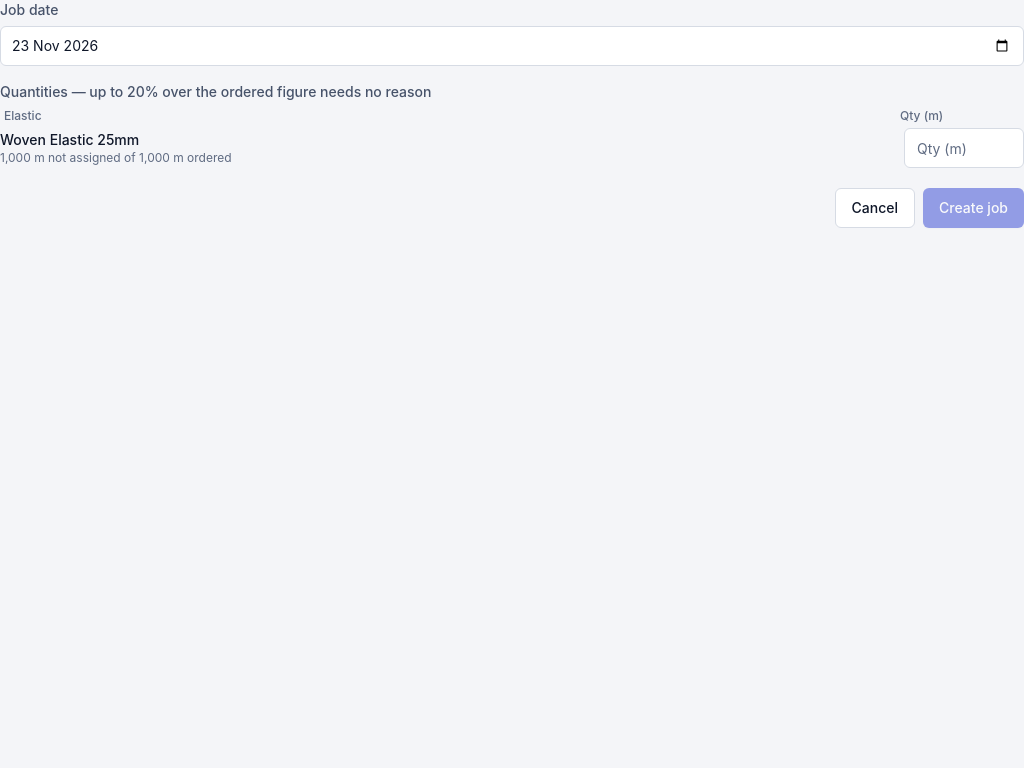
Test case: when the excess yarn is short › asks for a reason of at least 8 characters before trying again
The width and height of the screenshot is (1024, 768).
In the number field labelled "Qty (m)": (964, 148) x1=904 y1=128 x2=1023 y2=168, type "1100"
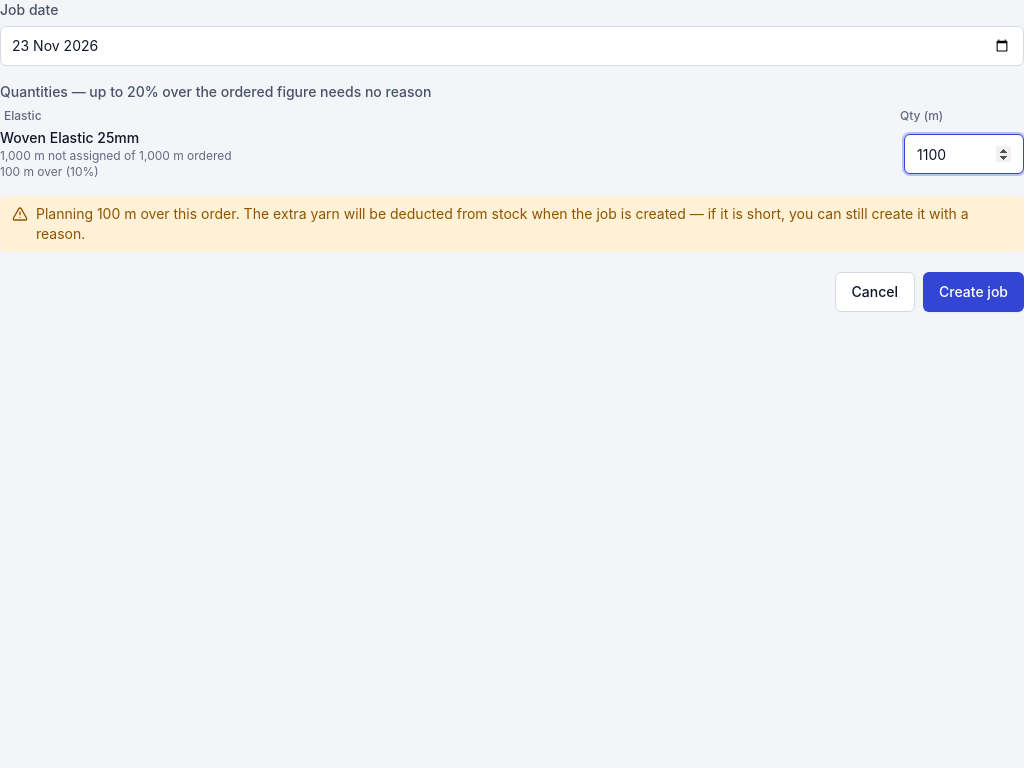
Click the button "Create job": (974, 292) x1=923 y1=272 x2=1023 y2=312
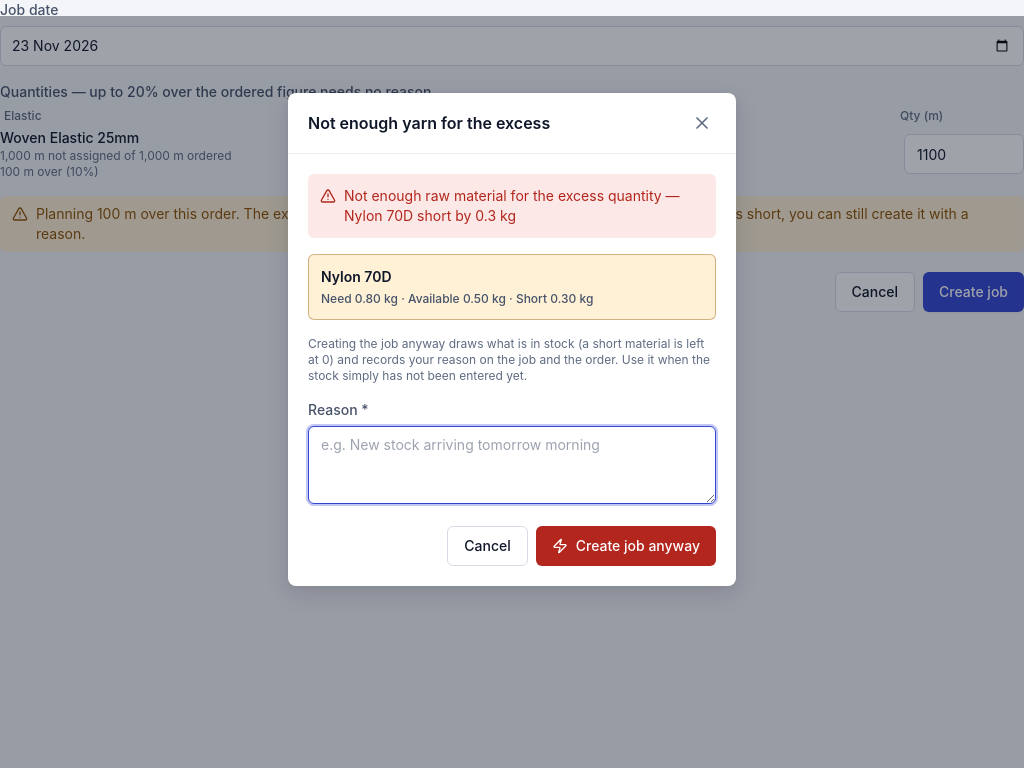
In the text box: (512, 465) x1=308 y1=426 x2=716 y2=504, type "short"
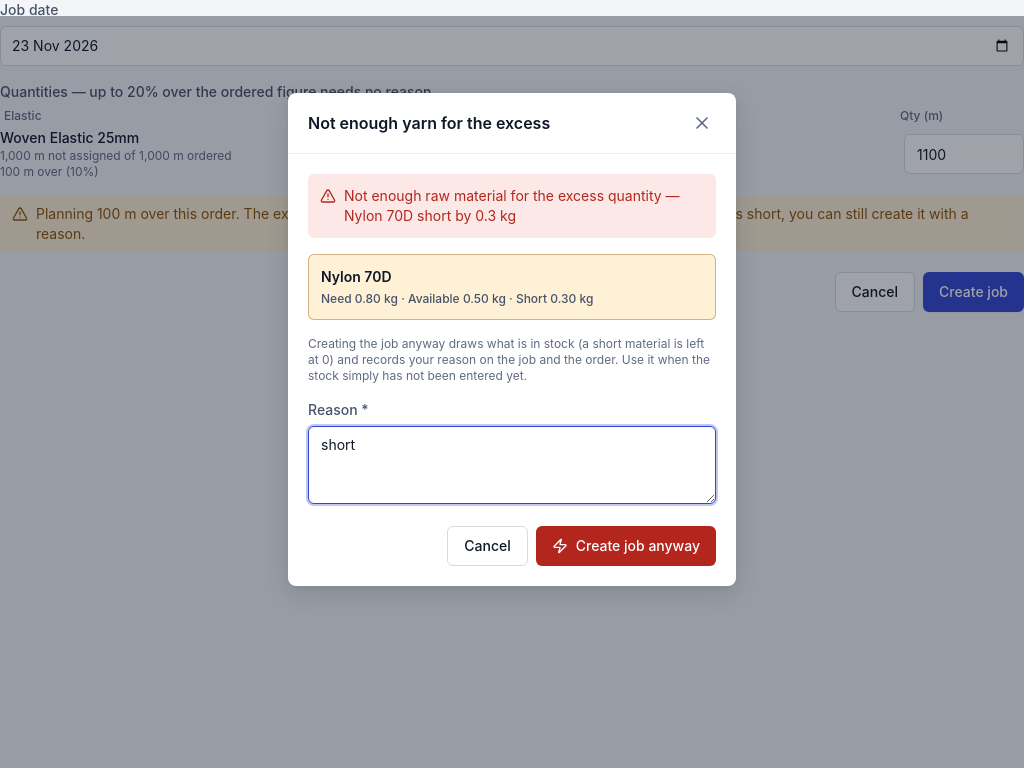
Click the button "Create job anyway": (626, 546) x1=536 y1=526 x2=716 y2=566
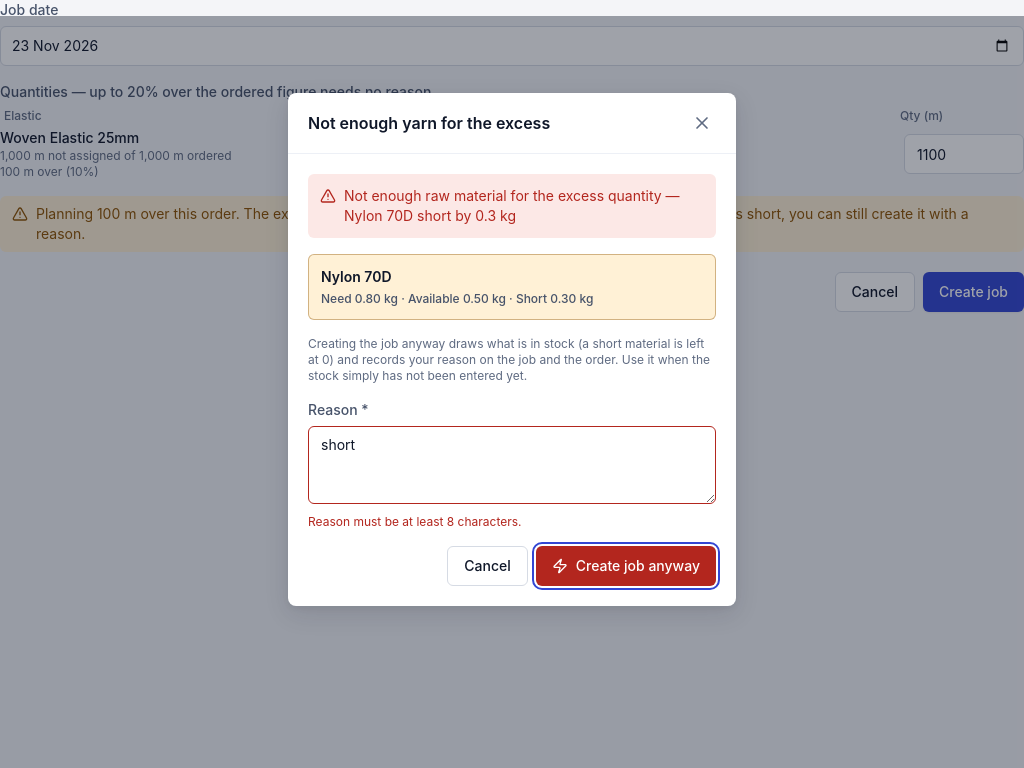
Result: the text "Reason must be at least 8 characters." is shown at x1=308 y1=514 x2=522 y2=529
